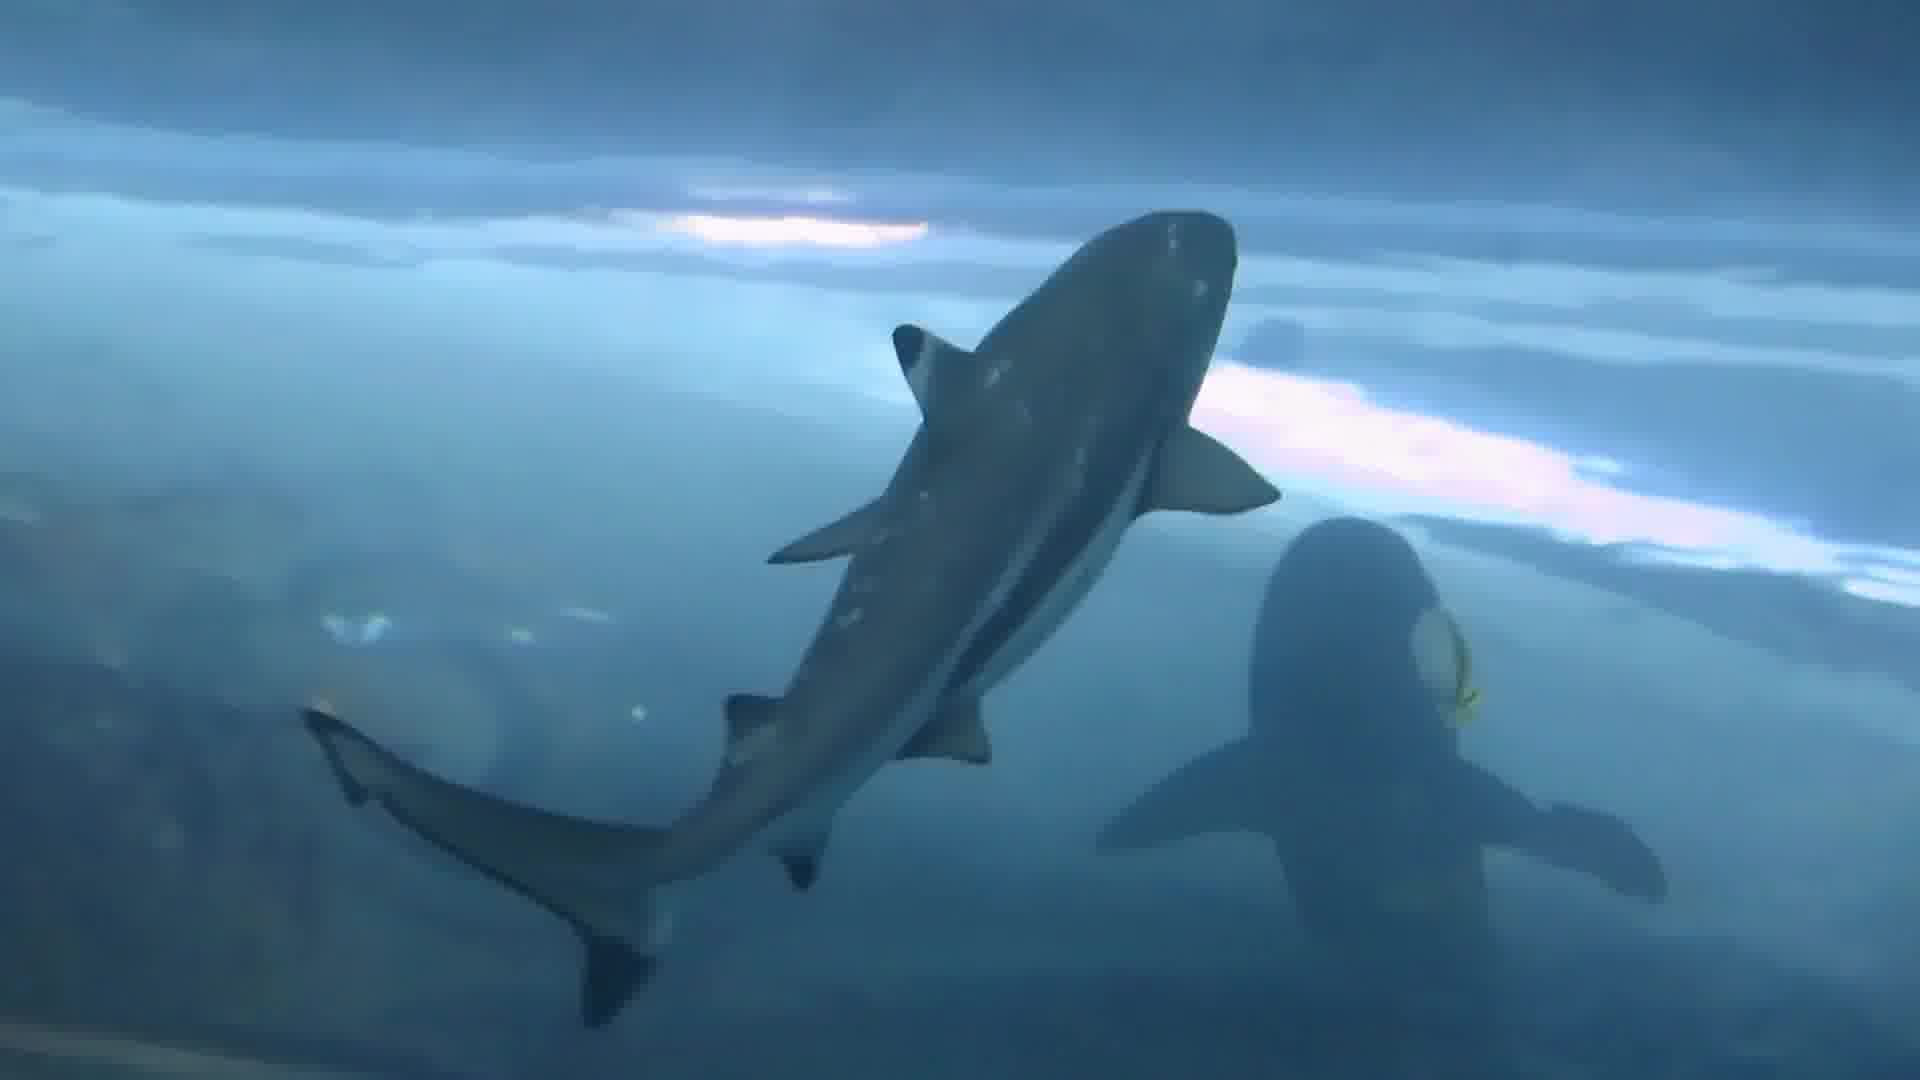Carcharhinus melanopterus: (237, 212, 1382, 997)
